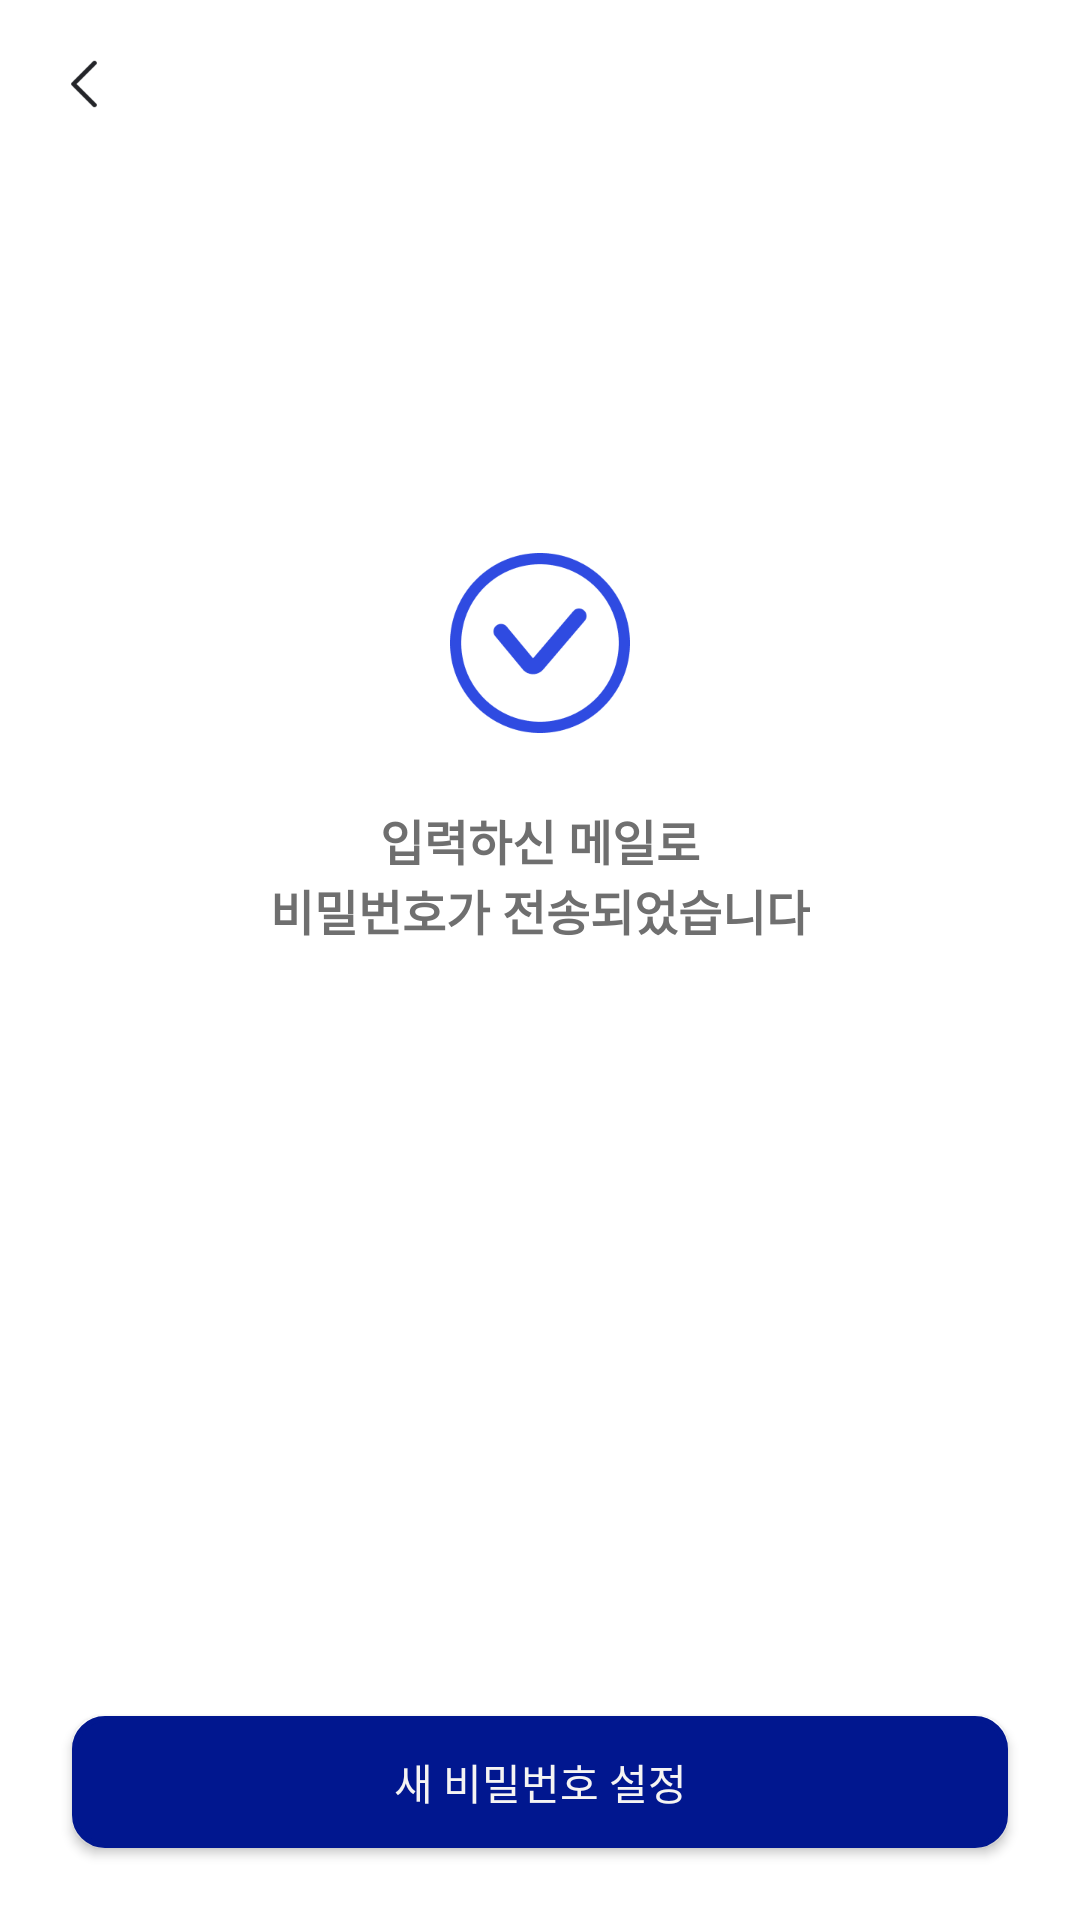

Named icons in this screenshot (1080×1920) and their centers, [x,y]:
arrow: [84,84]
circle check: [540,643]
